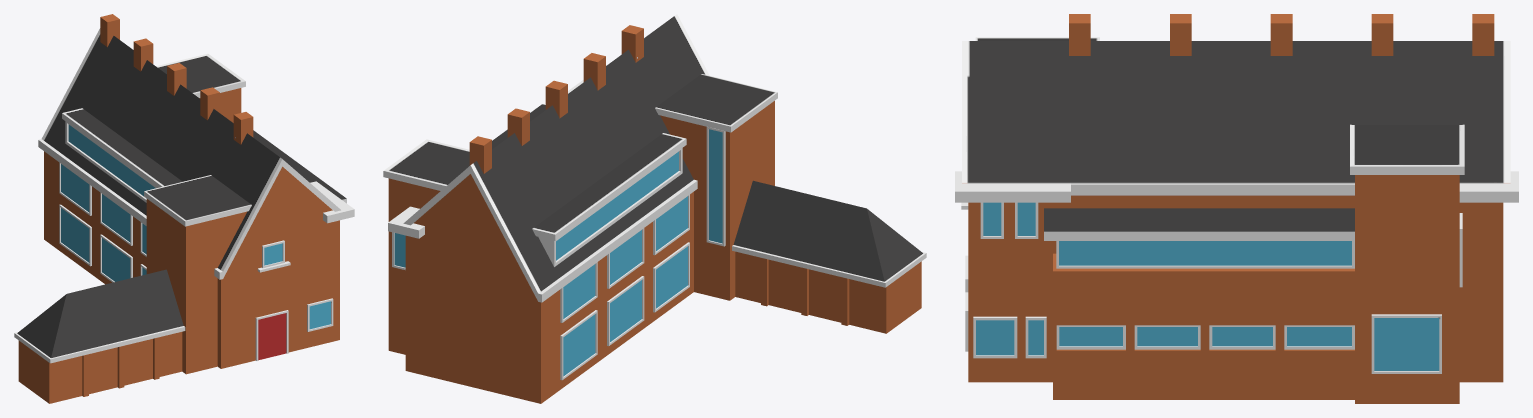
File: SM_BSOVillaBons.fbx
3 views of the same model, side by side, from view 1: azimuth 30°, elevation 25°; view 2: azimuth 150°, elevation 25°; view 3: azimuth 270°, elevation 25° (orthographic). The views are drawn at different scales.
Visible parts, largest first — view 1: Cube.069; view 2: Cube.069; view 3: Cube.069.
Boxes of the visible parts, bbox=[...] form: Cube.069: bbox=[14, 14, 354, 403]; Cube.069: bbox=[383, 14, 926, 403]; Cube.069: bbox=[955, 14, 1518, 403].
Bounding box in the file's own units: 109 × 69.78 × 111.
